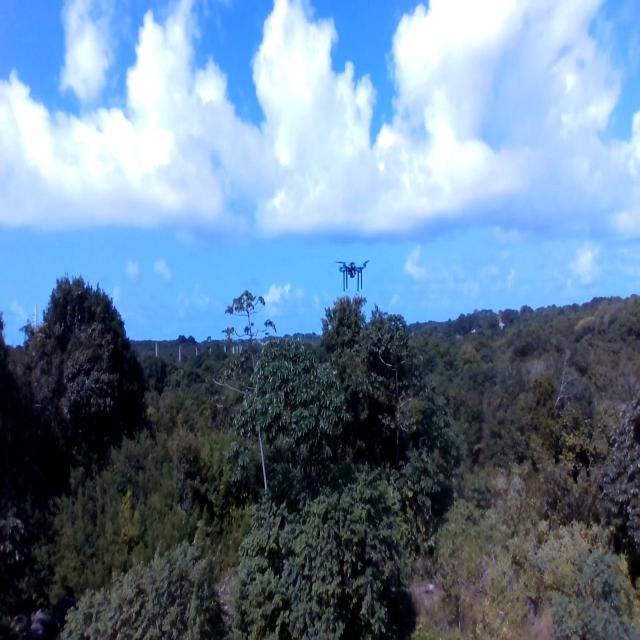-uav-: (336, 249, 371, 293)
